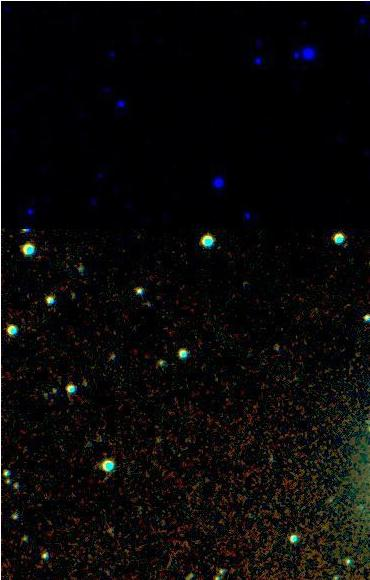star: (311, 512, 341, 542)
